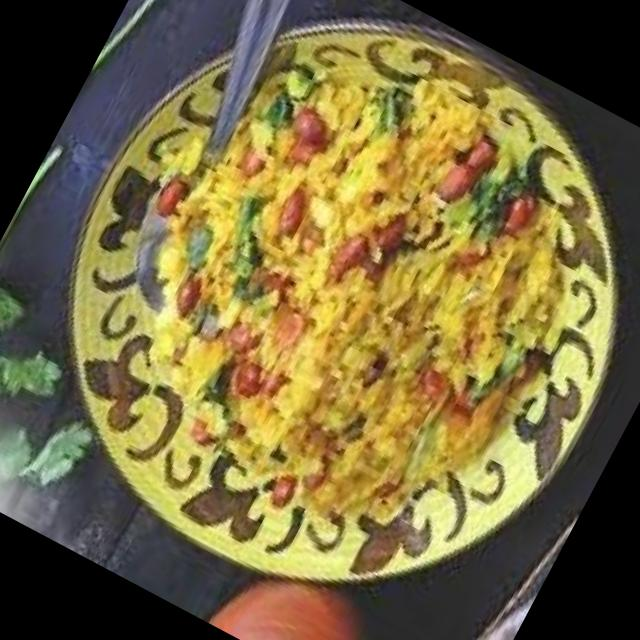poha: (41, 0, 640, 593)
